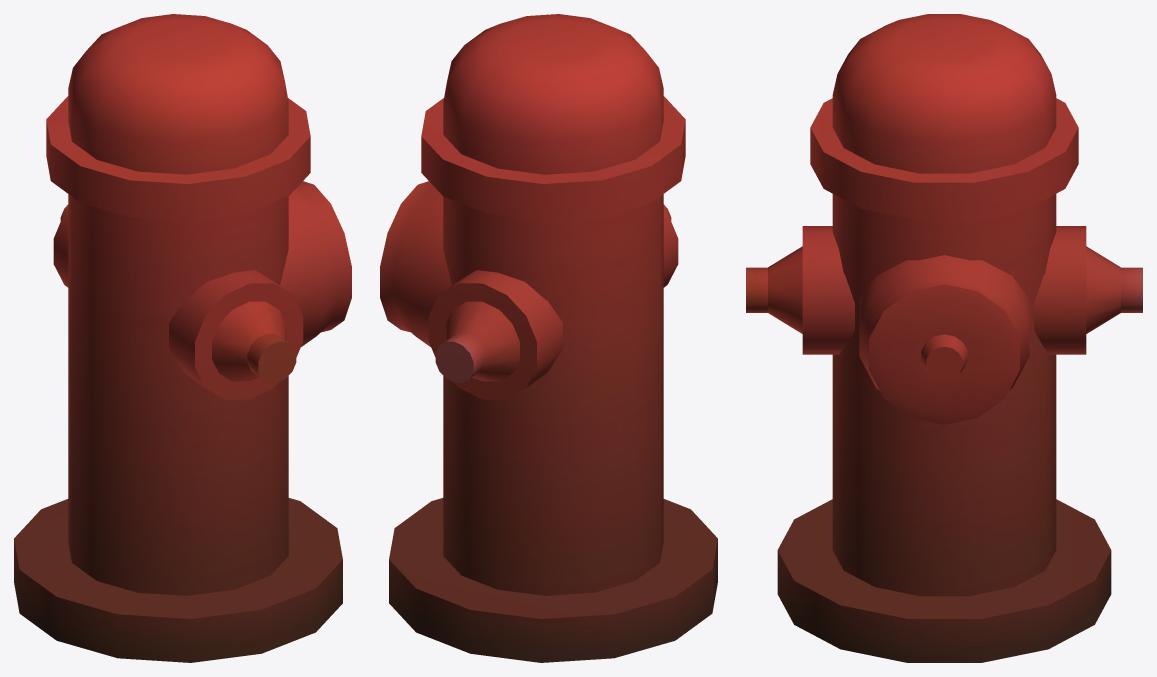
Rendered from fire-hydrant.glb.
The picture shows the model from 3 angles, left to right: view 1: azimuth 30°, elevation 25°; view 2: azimuth 150°, elevation 25°; view 3: azimuth 270°, elevation 25°; orthographic projection.
Visible parts, largest first — view 1: fire_hydrant; view 2: fire_hydrant; view 3: fire_hydrant.
Part boxes in pixels (x1,y1,x2,y2): fire_hydrant: (14, 14, 351, 662); fire_hydrant: (380, 14, 717, 662); fire_hydrant: (746, 14, 1142, 662).
Size of the model in its own units: 0.4684 by 0.8386 by 0.5442.
Materials: 1 (1 with a texture image).
